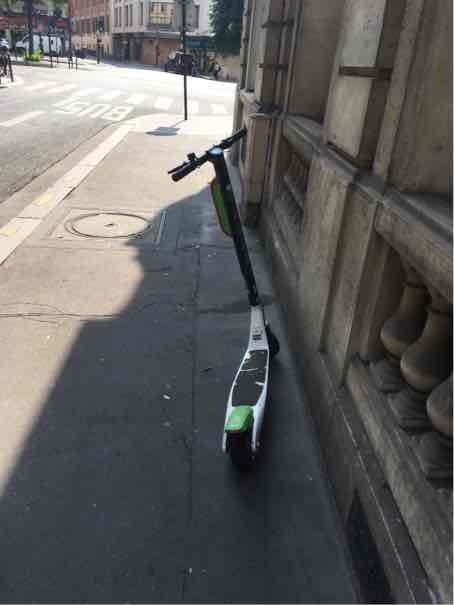scooter: (155, 121, 303, 488)
